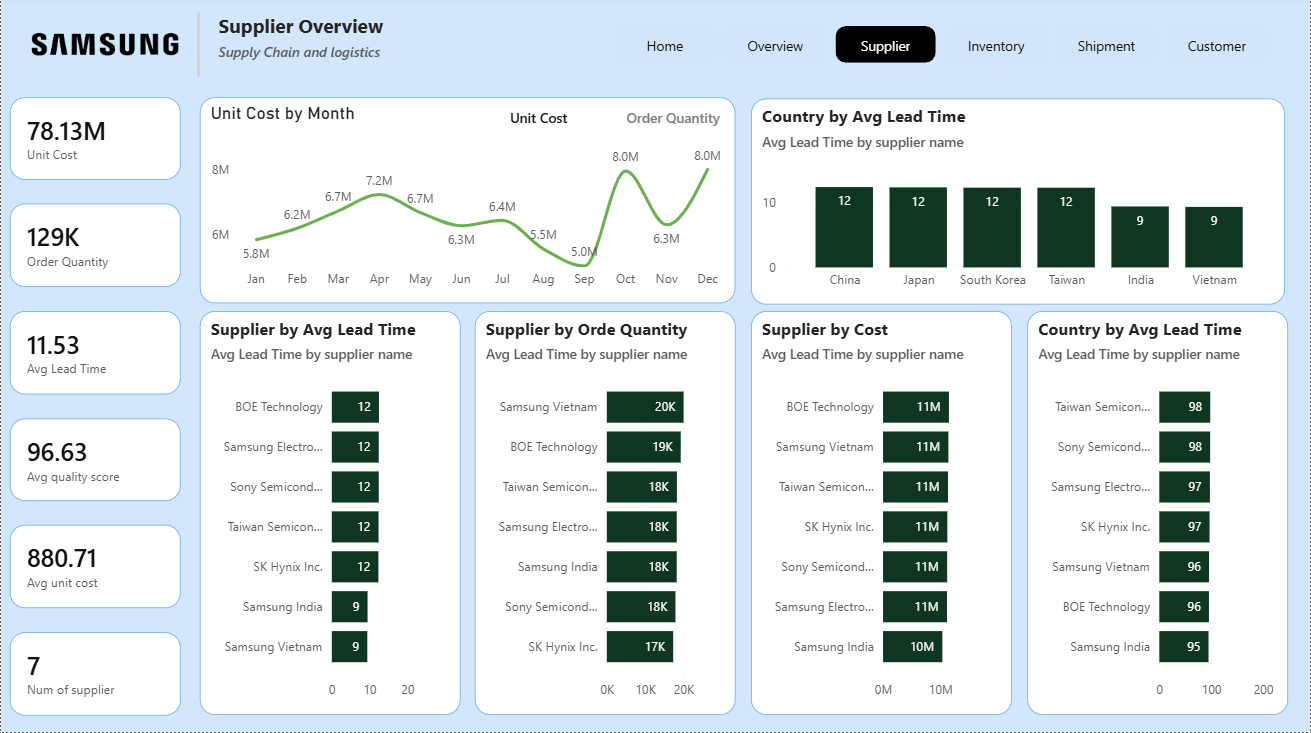

This screenshot's page, from the dashboard's own definition file:
{"tool":"powerbi","page":{"name":"Supplier","canvas":[1280,720],"ordinal":2},"visuals":[{"type":"textbox","title":"Supplier Overview","box":[207.9,15.9,220.1,80],"z":0},{"type":"lineChart","fields":{"Y":["MeasuresTable.Total Unit Cost"],"Category":["Dim_date.Month Short"]},"box":[195,98.8,523.8,201.3],"z":0,"group":"g1"},{"type":"shape","box":[178.5,15.9,29.3,63.6],"z":1000},{"type":"advancedSlicerVisual","fields":{"Values":["Cost Qty Supplier.Cost Qty Supplier"]},"box":[488.8,98.8,230,57.1],"z":1000,"group":"g1"},{"type":"image","box":[18.8,23.8,160,47.5],"z":2000},{"type":"cardVisual","fields":{"Data":["MeasuresTable.Order_QTY"]},"box":[8.8,203.3,167.5,81.2],"z":3000},{"type":"cardVisual","fields":{"Data":["MeasuresTable.Average_Lead_Time"]},"box":[8.8,308.2,167.5,81.2],"z":4000},{"type":"cardVisual","fields":{"Data":["Sum(MeasuresTable.Avg quality score)"]},"box":[8.8,413,167.5,81],"z":5000},{"type":"cardVisual","fields":{"Data":["MeasuresTable.Avg unit cost"]},"box":[8.8,517.6,167.5,81.2],"z":6000},{"type":"cardVisual","fields":{"Data":["CountNonNull(Dim_supplier.supplier_id)"]},"box":[8.8,622.5,167.5,81.2],"z":7000},{"type":"cardVisual","fields":{"Data":["MeasuresTable.Total Unit Cost"]},"box":[8.8,98.8,167,81],"z":8000},{"type":"clusteredBarChart","title":"Supplier by Avg Lead Time","fields":{"Category":["Dim_supplier.supplier_name"],"Y":["MeasuresTable.Average_Lead_Time"]},"box":[195,308.8,255,395],"z":9000},{"type":"clusteredBarChart","title":"Supplier by Orde Quantity","fields":{"Category":["Dim_supplier.supplier_name"],"Y":["MeasuresTable.Order_QTY"]},"box":[463.8,308.8,255,395],"z":10000},{"type":"clusteredBarChart","title":"Supplier by Cost","fields":{"Category":["Dim_supplier.supplier_name"],"Y":["Sum(Fact_procurement.total_cost)"]},"box":[733.8,308.8,255,395],"z":11000},{"type":"clusteredBarChart","title":"Country by Avg Lead Time","fields":{"Category":["Dim_supplier.supplier_name"],"Y":["Avg(Fact_procurement.quality_score)"]},"box":[1003.8,308.8,255,395],"z":12000},{"type":"group","id":"g1","title":"Group 1","box":[195,98.8,523.8,201.2],"z":13000},{"type":"clusteredColumnChart","title":"Country by Avg Lead Time","fields":{"Category":["Dim_supplier.country"],"Y":["MeasuresTable.Average_Lead_Time"]},"box":[733.8,100,522.5,201.2],"z":14000},{"type":"pageNavigator","box":[600.7,28.9,641.4,36.8],"z":15000}]}

Visuals, with their boxes in screenshot pixels (x1, y1, x2, y2), scaled from the page's 1280x720 canvas onto the 1311x733 screenshot:
"Supplier Overview" textbox: bbox=[213, 16, 438, 98]
lineChart - MeasuresTable.Total Unit Cost x Dim_date.Month Short: bbox=[200, 101, 736, 306]
shape: bbox=[183, 16, 213, 81]
advancedSlicerVisual - Cost Qty Supplier.Cost Qty Supplier: bbox=[501, 101, 736, 159]
image: bbox=[19, 24, 183, 73]
cardVisual - MeasuresTable.Order_QTY: bbox=[9, 207, 181, 290]
cardVisual - MeasuresTable.Average_Lead_Time: bbox=[9, 314, 181, 396]
cardVisual - Sum(MeasuresTable.Avg quality score): bbox=[9, 420, 181, 503]
cardVisual - MeasuresTable.Avg unit cost: bbox=[9, 527, 181, 610]
cardVisual - CountNonNull(Dim_supplier.supplier_id): bbox=[9, 634, 181, 716]
cardVisual - MeasuresTable.Total Unit Cost: bbox=[9, 101, 180, 183]
"Supplier by Avg Lead Time" clusteredBarChart: bbox=[200, 314, 461, 717]
"Supplier by Orde Quantity" clusteredBarChart: bbox=[475, 314, 736, 717]
"Supplier by Cost" clusteredBarChart: bbox=[752, 314, 1013, 717]
"Country by Avg Lead Time" clusteredBarChart: bbox=[1028, 314, 1289, 717]
"Group 1" group: bbox=[200, 101, 736, 305]
"Country by Avg Lead Time" clusteredColumnChart: bbox=[752, 102, 1287, 307]
pageNavigator: bbox=[615, 29, 1272, 67]
